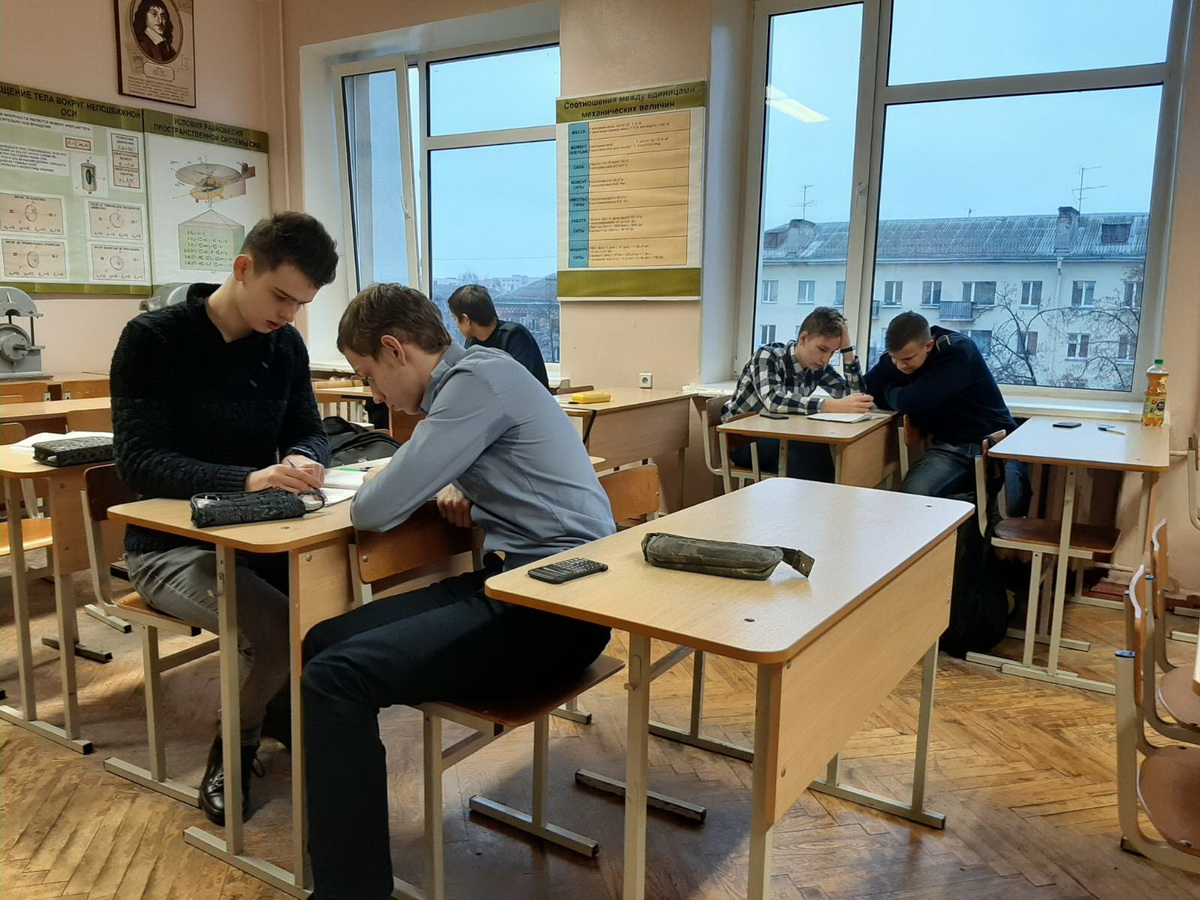students: (308, 283, 619, 896), (112, 212, 338, 823), (859, 311, 1013, 498), (721, 308, 875, 486), (448, 284, 548, 393)
